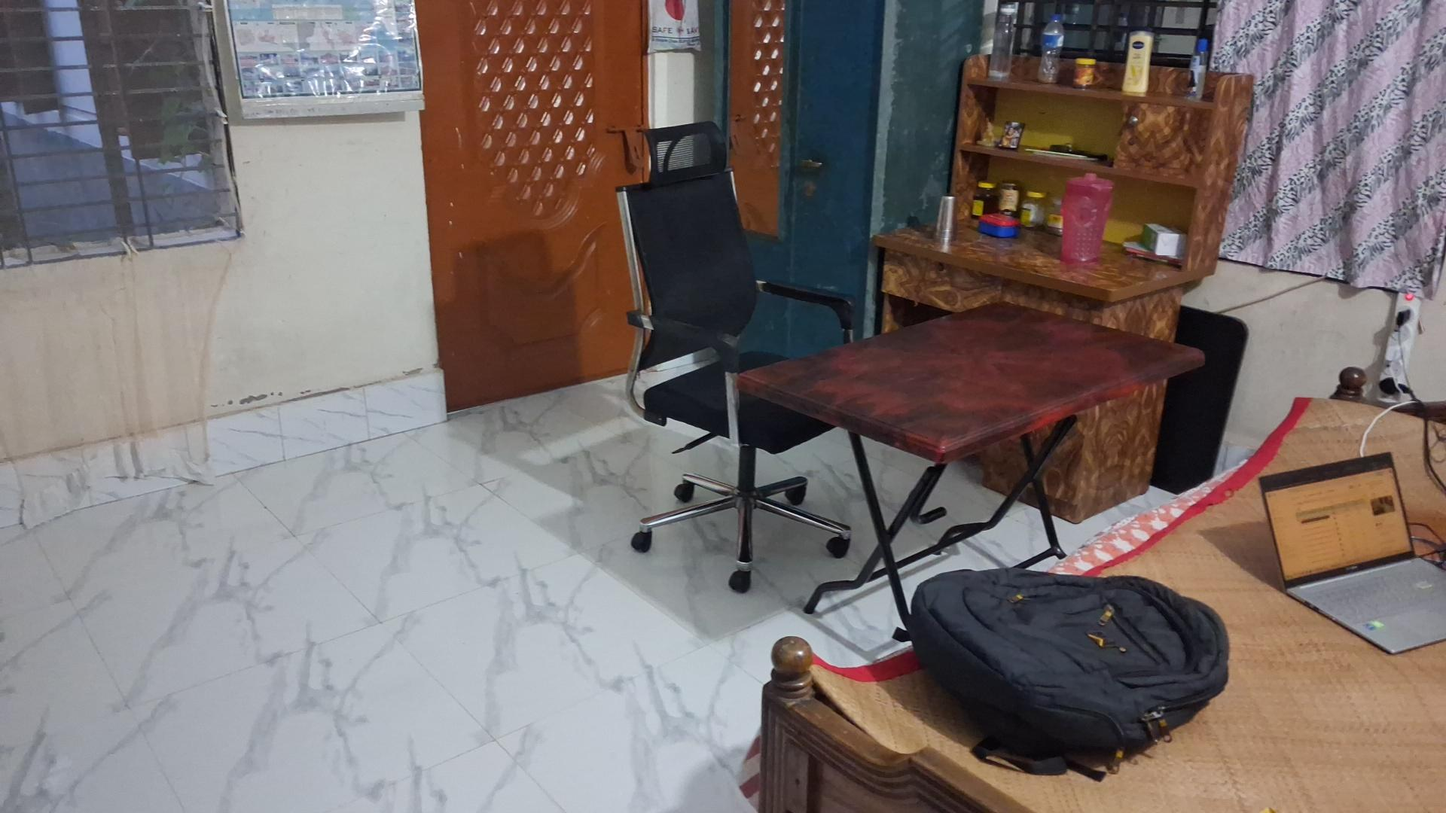Bag: (890, 547, 1240, 767), (641, 0, 705, 56)
Bottle: (1121, 26, 1155, 100), (990, 2, 1019, 80), (1039, 14, 1065, 82), (1186, 37, 1209, 101)
Chair: (615, 122, 859, 593)
Door: (398, 2, 641, 397)
Glass: (933, 194, 961, 244)
Jar: (973, 207, 1023, 239), (1021, 187, 1046, 228), (1070, 54, 1098, 89), (972, 180, 997, 216), (998, 182, 1021, 213)
Jug: (1056, 169, 1116, 265)
Laptop: (1258, 451, 1445, 656)
Table: (731, 295, 1212, 567)
Window: (0, 0, 253, 254)
